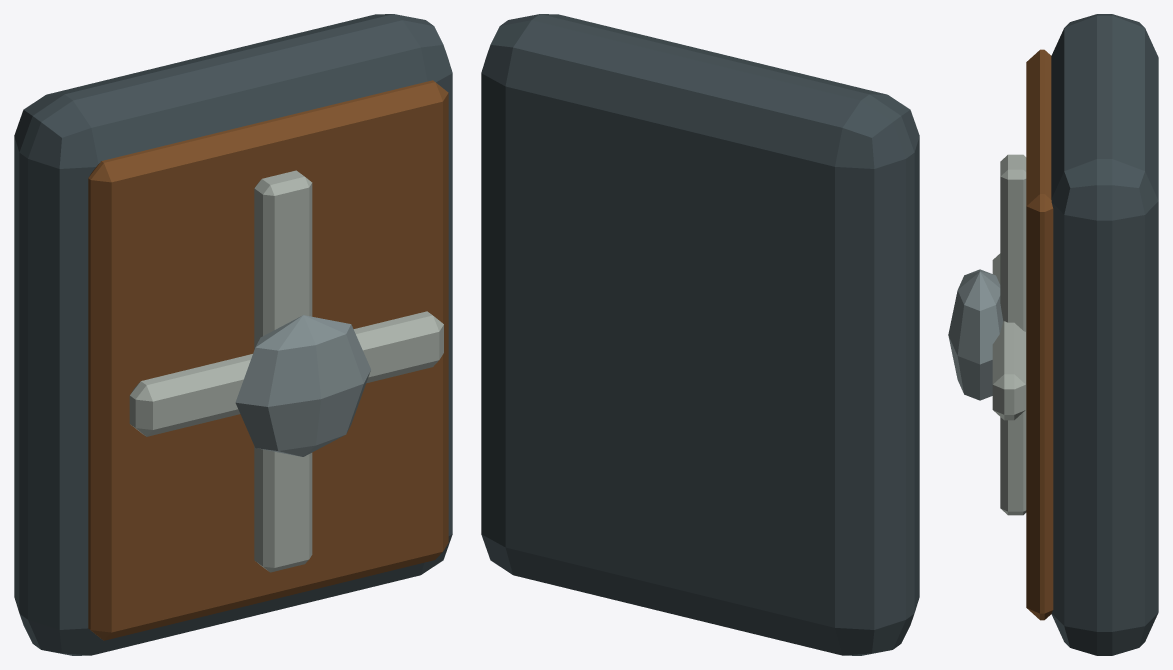
The model's file is SM_NPC_Offhand_01_Shield.glb.
The picture shows the model from 3 angles, left to right: view 1: azimuth 30°, elevation 25°; view 2: azimuth 150°, elevation 25°; view 3: azimuth 270°, elevation 25°; orthographic projection. The views are drawn at different scales.
Parts seen in each view (by area): view 1: SM_NPC_Offhand_01_Shield; view 2: SM_NPC_Offhand_01_Shield; view 3: SM_NPC_Offhand_01_Shield.
Part boxes in pixels (x1,y1,x2,y2): SM_NPC_Offhand_01_Shield: (14,14,452,655); SM_NPC_Offhand_01_Shield: (481,14,919,655); SM_NPC_Offhand_01_Shield: (948,14,1158,655).
Size of the model in its own units: 0.34 by 0.43 by 0.1655.
